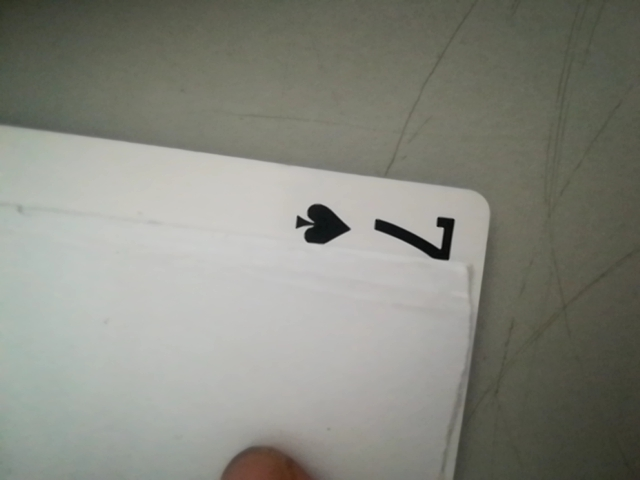ht 7: (278, 196, 475, 266)
